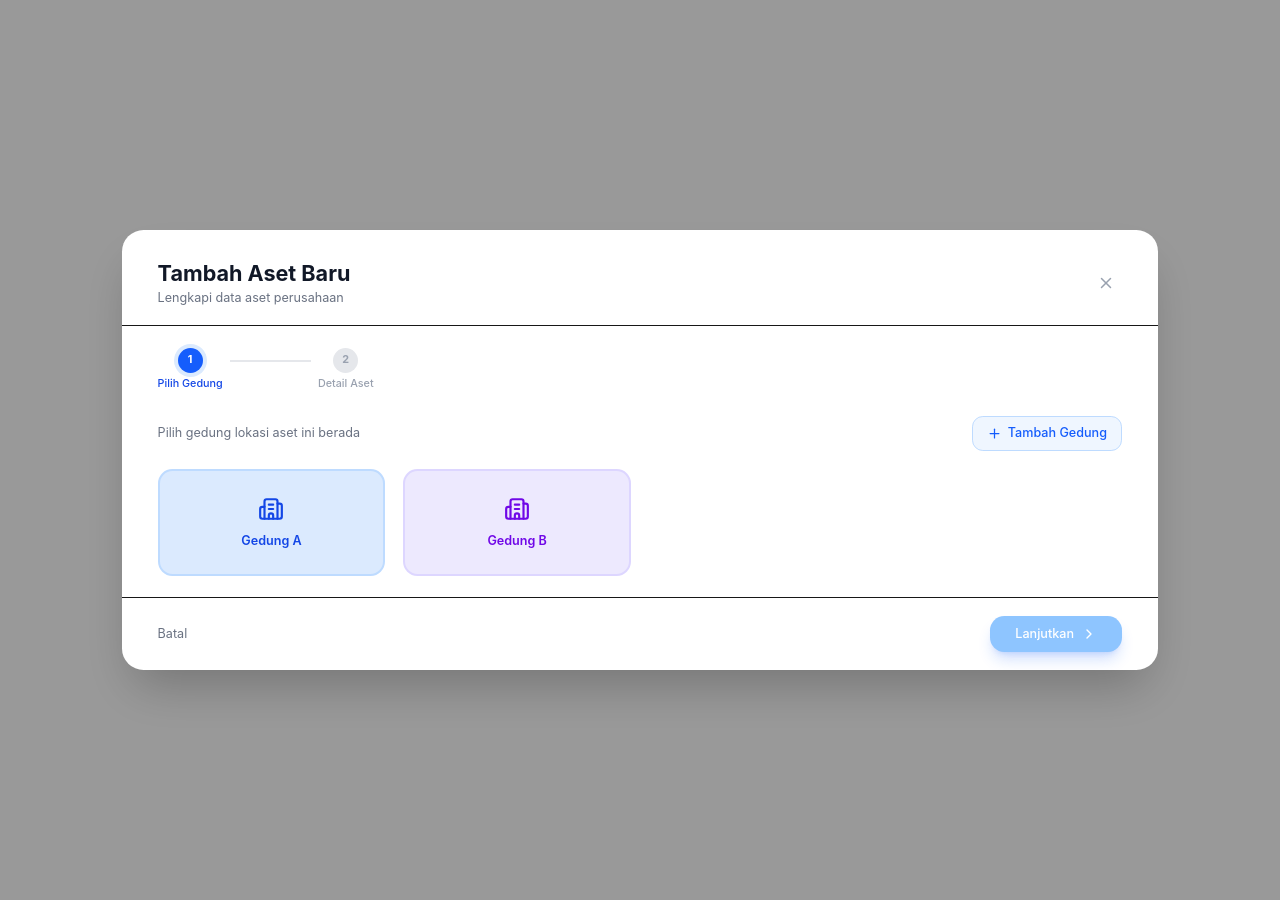
AddAssetModal — required-field validation before PIN step › reports missing fields one at a time via handleSaveClick guards
This screenshot has width=1280, height=900.
Expected: the text "Gedung A" is shown, [241,533,302,548]
Click the button "Gedung A" at (271, 522), box [158,469,385,576]
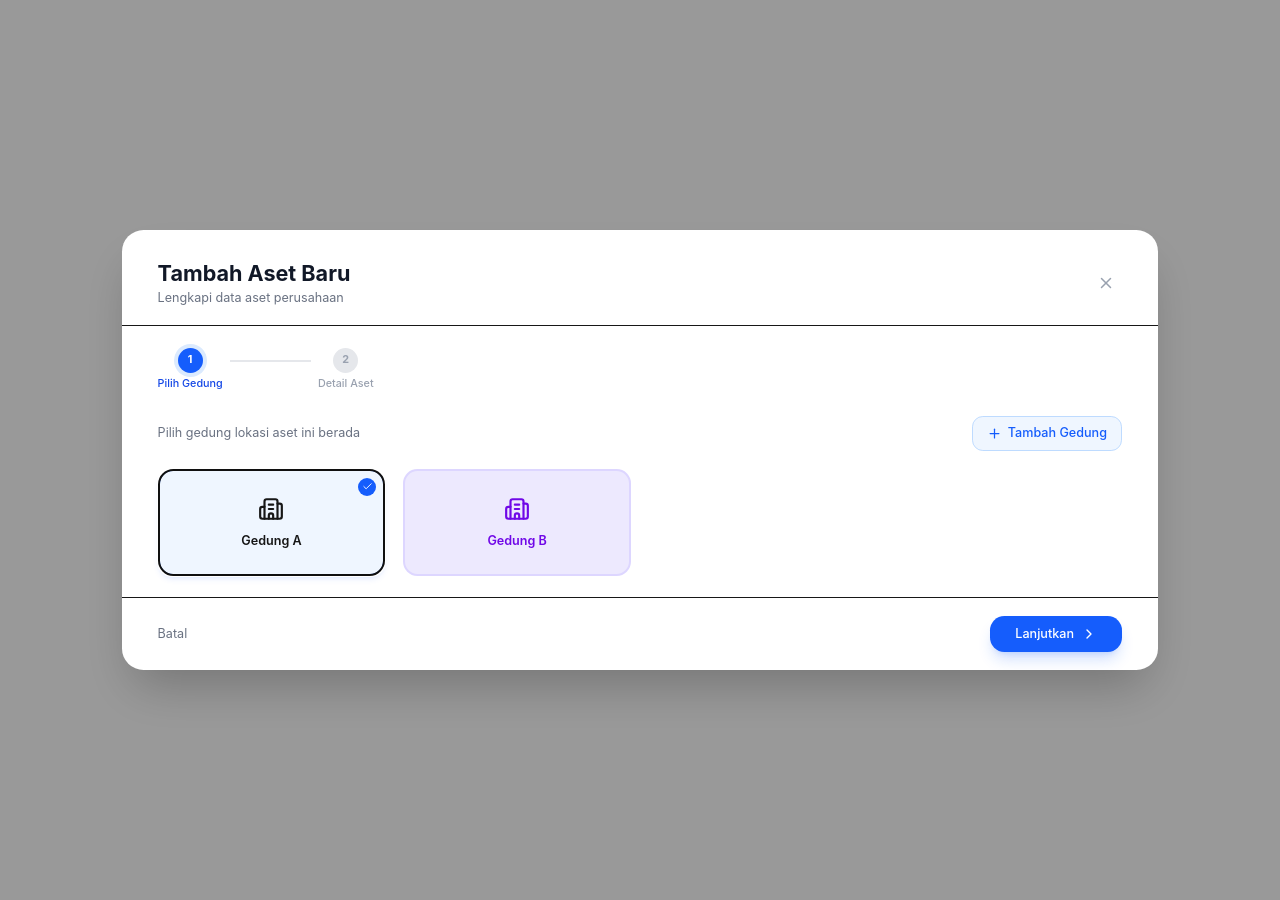
Click the button "Lanjutkan" at (1056, 634), box [990,616,1122,652]
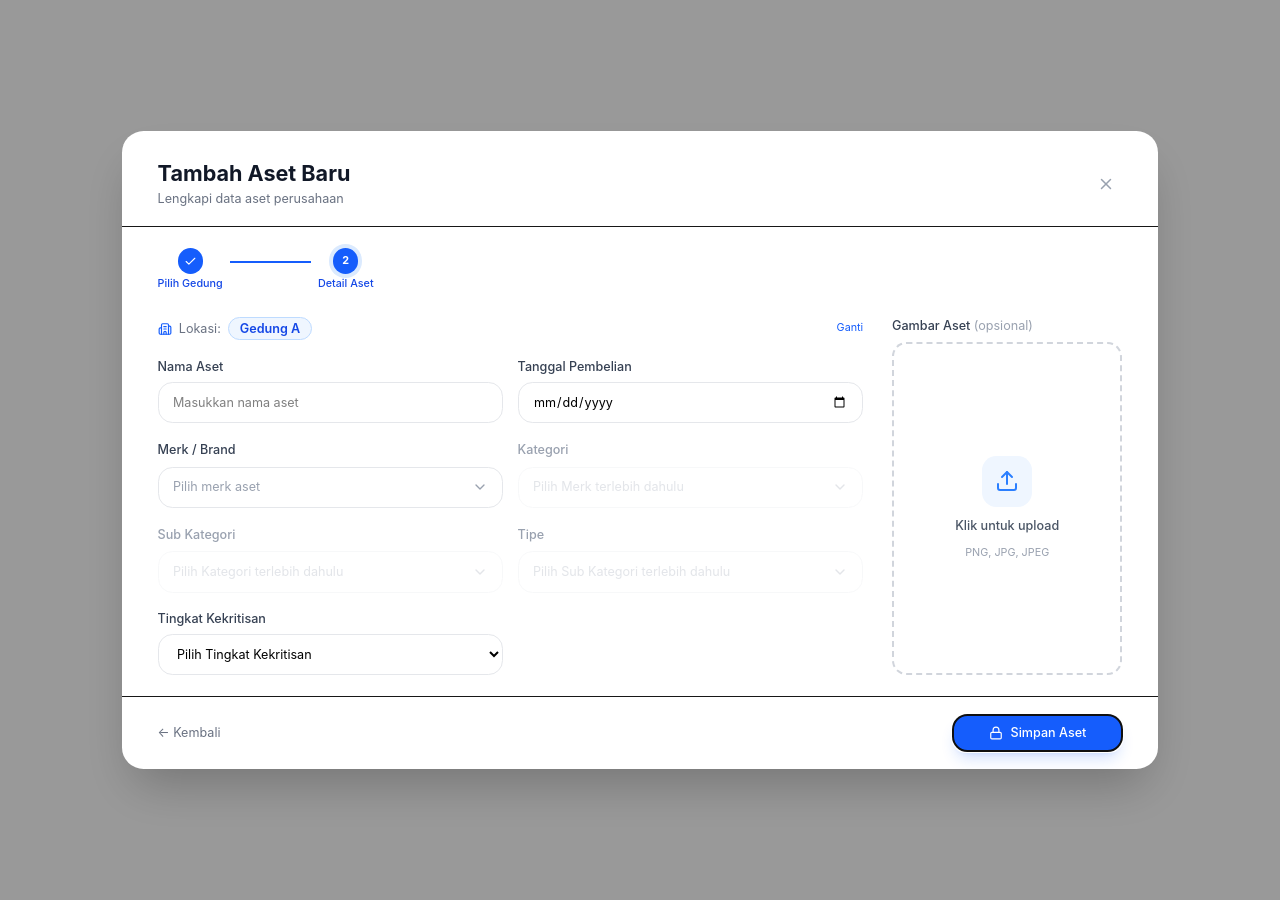
Expected: the text "Nama Aset" is shown, [158,359,223,374]
Click the button "Simpan Aset" at (1038, 734), box [953,716,1122,752]
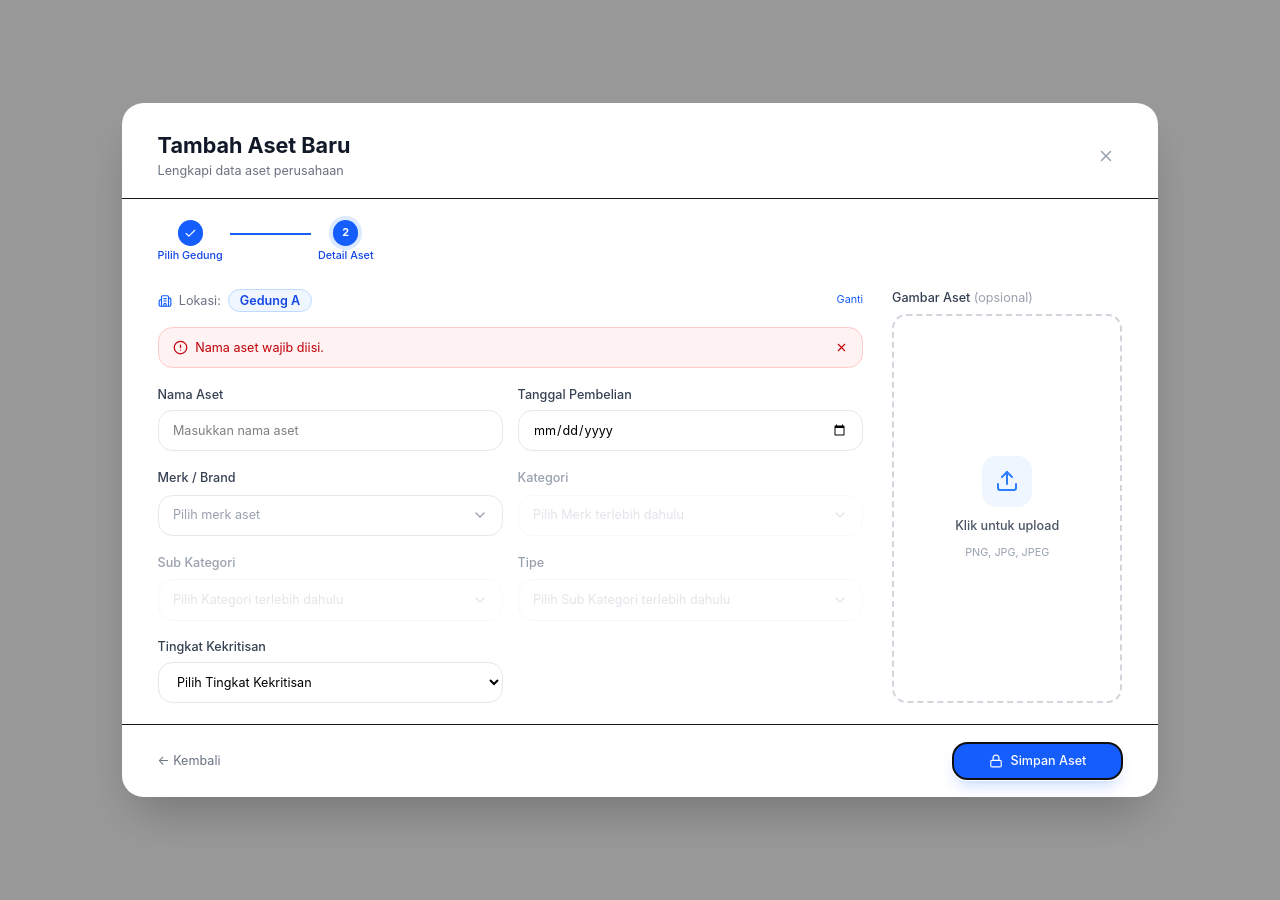
Expected: the text "Nama aset wajib diisi." is shown, [195,339,324,357]
Type "AC Split Lobby" into the field with placeholder "Masukkan nama aset" at (330, 431), box [158,410,503,451]
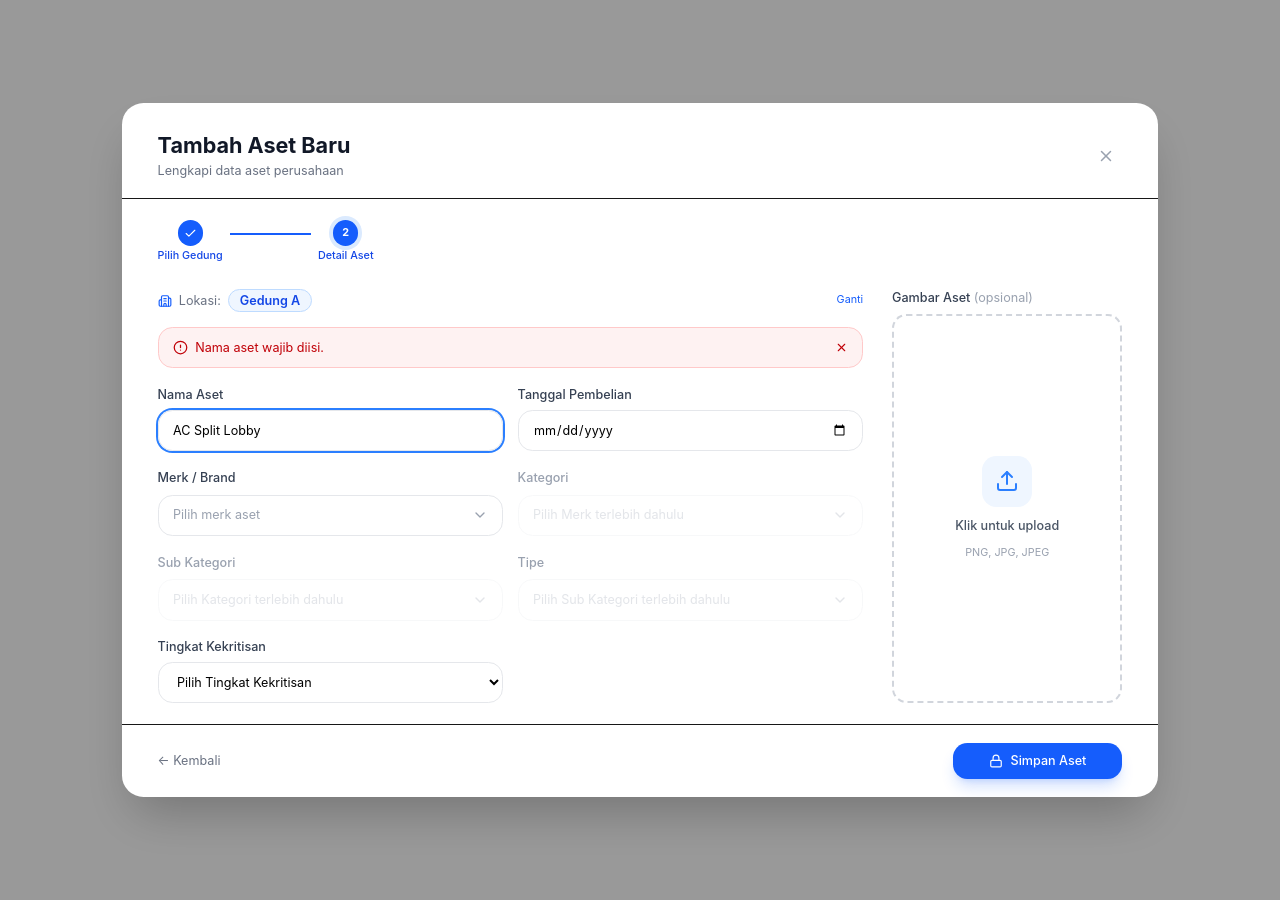
Click the button "Simpan Aset" at (1038, 762), box [953,744,1122,780]
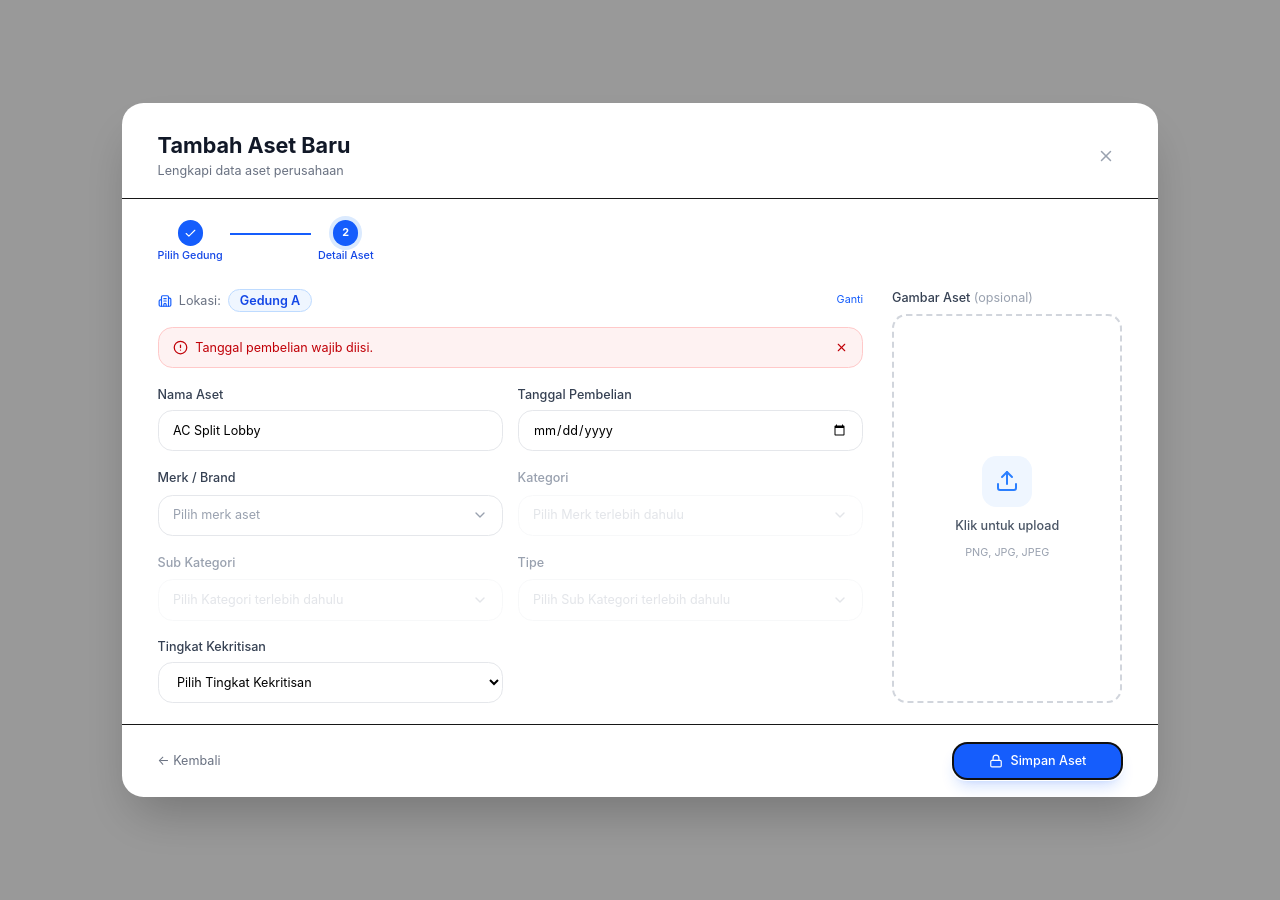
Expected: the text "Tanggal pembelian wajib diisi." is shown, [195,339,373,357]
